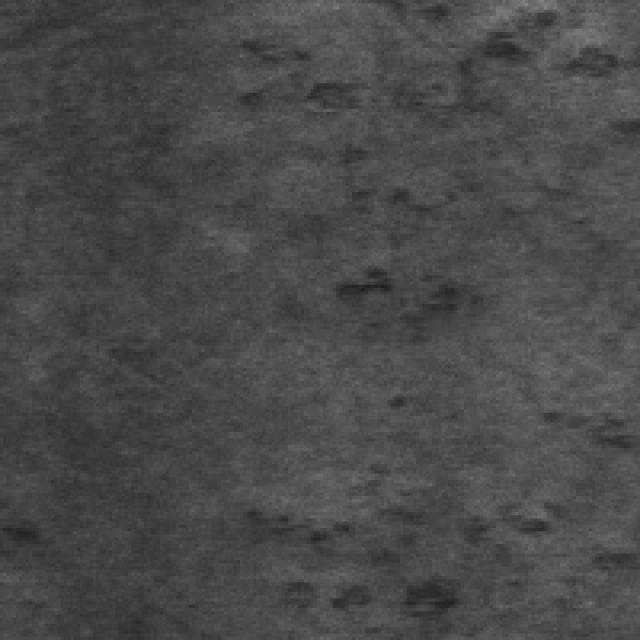rolled-in_scale: (240, 426, 627, 614), (237, 0, 614, 109), (323, 166, 464, 340)
